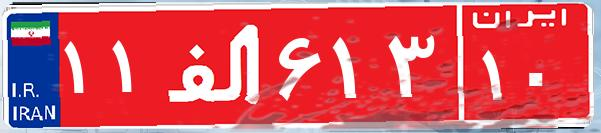0: (525, 38, 570, 115)
1: (330, 28, 385, 110), (57, 26, 110, 107), (475, 38, 525, 113), (110, 28, 158, 105)
3: (385, 28, 445, 110)
6: (273, 28, 330, 110)
الف: (158, 15, 273, 115)
